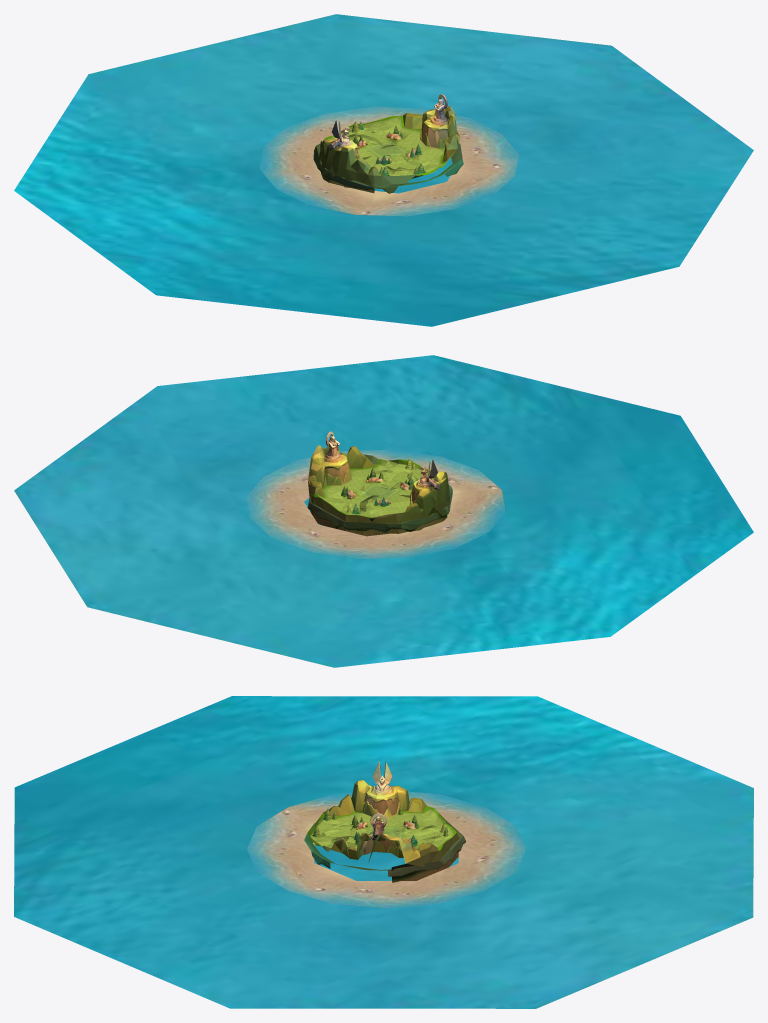
The model's file is newMap02.FBX.
3 views of the same model, one above another, from view 1: azimuth 30°, elevation 25°; view 2: azimuth 150°, elevation 25°; view 3: azimuth 270°, elevation 25° (orthographic). The views are drawn at different scales.
Visible parts, largest first — view 1: 02, 01; view 2: 02, 01; view 3: 02, 01.
Boxes of the visible parts, left/top/right/bottom form: 02: left=14, top=14, right=753, bottom=326; 01: left=319, top=105, right=459, bottom=193; 02: left=14, top=355, right=753, bottom=667; 01: left=308, top=445, right=449, bottom=536; 02: left=14, top=696, right=753, bottom=1008; 01: left=307, top=780, right=459, bottom=882.
Bounding box in the file's own units: 32479 × 3619 × 32478.
Materials: 2 (2 with a texture image).
